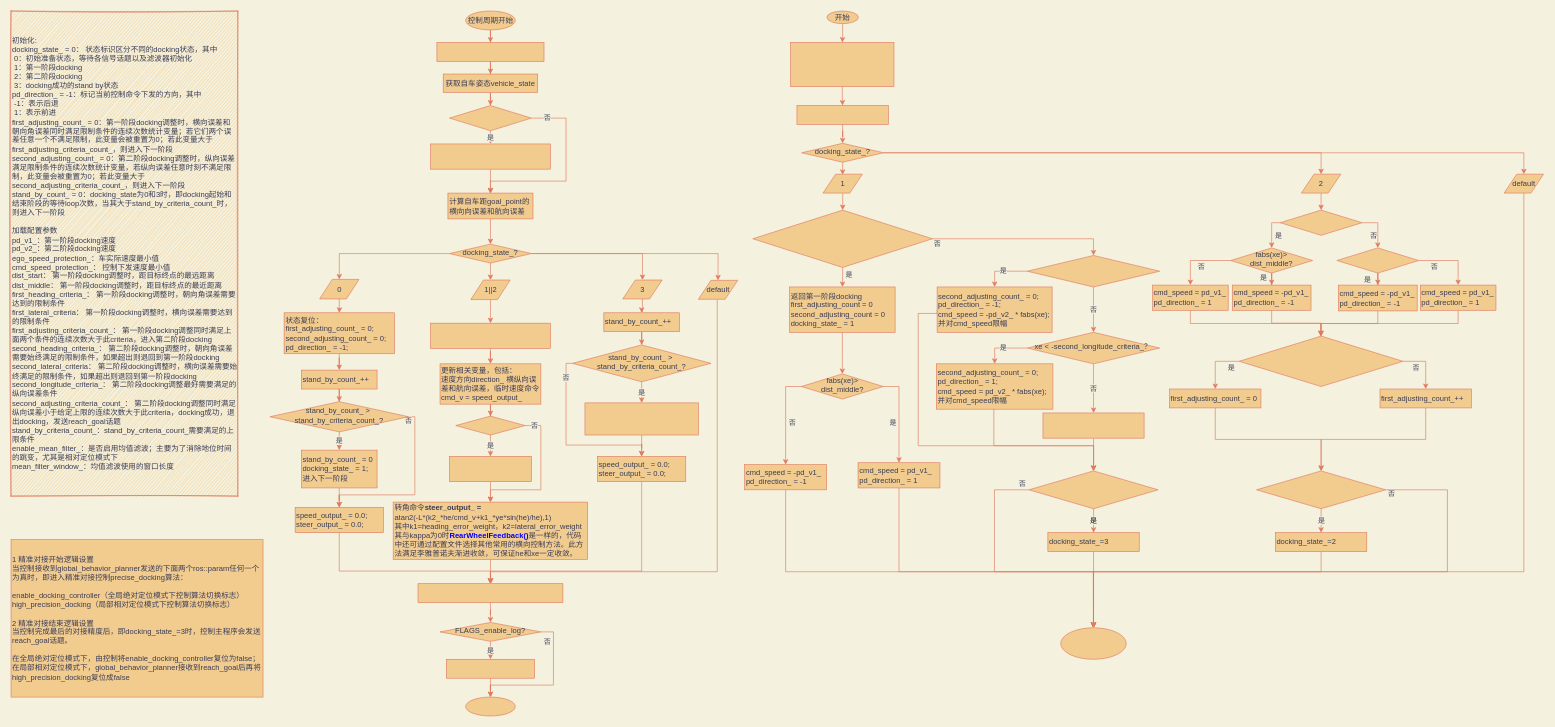
Image size: 1555x727. Some labels were removed from this diagram. Here are the shapes that lost their labels. From the top down, the box of each, then its label:
(436, 42, 544, 61): 获取目标终点姿态goal_point
(790, 42, 894, 87): 获取目标终点goal_point和自车姿态vehicle_state，并 计算自车距终点的纵向误差xe，横向误差ye和航向误差he
(449, 105, 531, 131): enable_mean_filter_ ?
(796, 105, 888, 124): 初始化cmd_speed=0
(430, 143, 550, 169): 对自车姿态进行滤波，包括x，y，heading，然后更新vehicle_state
(752, 209, 932, 267): fabs(he)>second_heading_criteria_? || fabs(ye)>second_lateral_criteria_?
(1280, 209, 1362, 235): pd_direction<=0?
(1027, 255, 1160, 287): xe > second_longitude_criteria_？
(1336, 247, 1419, 273): fabs(xe)> dist_start?
(430, 323, 550, 348): 调用 ComputeSpeedCommand() 计算得到速度命 speed_output_
(1239, 335, 1403, 387): fabs(he)>first_heading_criteria_? || fabs(ye)>first_lateral_criteria_?
(455, 415, 525, 435): direction_>1?
(584, 402, 698, 435): stand_by_count_=0 docking_state_=1; 返回Docking successfully!!!
(1042, 412, 1144, 438): cmd_speed = 0 second_adjusting_count_++
(449, 456, 531, 482): 根据速度对相关横向控制算法的系数进行差值
(1028, 470, 1158, 509): second_adjusting_count_> second_adjusting_criteria_?
(1256, 470, 1386, 509): first_adjusting_count_> first_adjusting_criteria_?
(417, 583, 563, 603): 对speed_output_和steer_output_进行限幅
(1060, 627, 1126, 659): 返回cmd_speed
(446, 659, 535, 678): 记录控制详细信息日志
(465, 696, 515, 716): 控制周期结束
